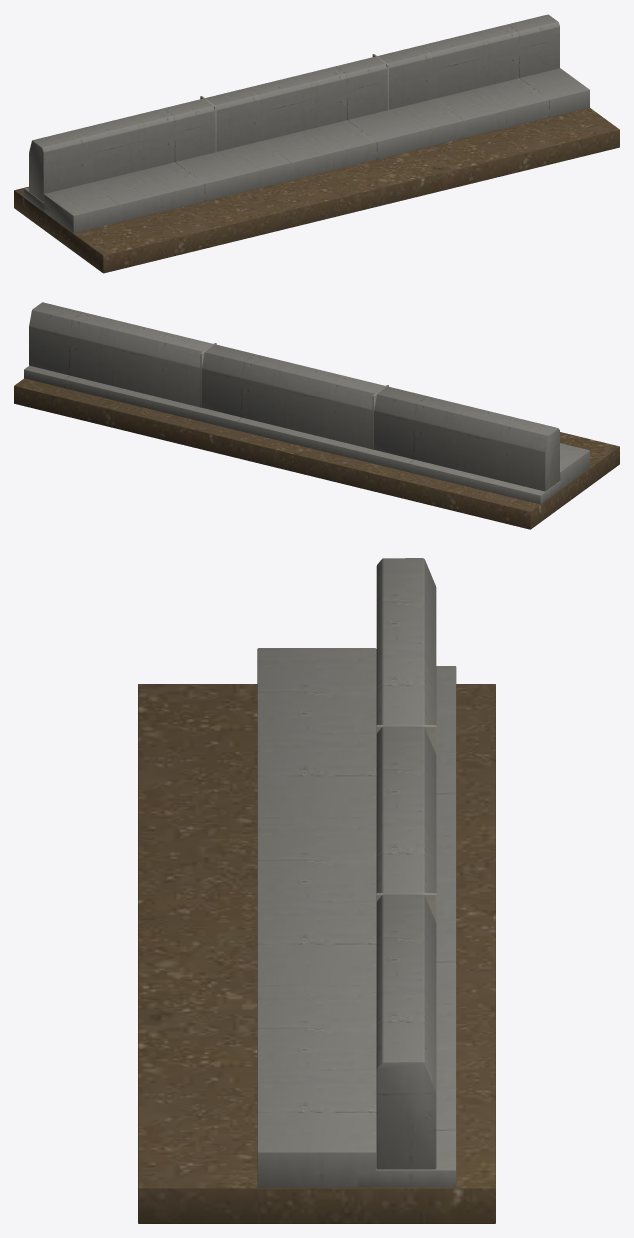
The model's file is KIT-PAV-04_lod1.glb.
The picture shows the model from 3 angles, top to bottom: view 1: azimuth 30°, elevation 25°; view 2: azimuth 150°, elevation 25°; view 3: azimuth 270°, elevation 25°; orthographic projection. The views are drawn at different scales.
Parts seen in each view (by area): view 1: KIT-PAV-04_base, KIT-PAV-04_sarjeta, KIT-PAV-04_mf0, KIT-PAV-04_mf1, KIT-PAV-04_mf2; view 2: KIT-PAV-04_base, KIT-PAV-04_mf0, KIT-PAV-04_mf2, KIT-PAV-04_mf1, KIT-PAV-04_berco, KIT-PAV-04_sarjeta; view 3: KIT-PAV-04_base, KIT-PAV-04_sarjeta, KIT-PAV-04_mf2, KIT-PAV-04_berco, KIT-PAV-04_mf0, KIT-PAV-04_mf1.
Part boxes in pixels (x1,y1,x2,y2): KIT-PAV-04_base: (14,107,619,273); KIT-PAV-04_sarjeta: (44,68,589,233); KIT-PAV-04_mf0: (29,98,215,202); KIT-PAV-04_mf1: (205,56,387,151); KIT-PAV-04_mf2: (377,14,559,109); KIT-PAV-04_base: (14,378,619,529); KIT-PAV-04_mf0: (374,386,559,491); KIT-PAV-04_mf2: (29,302,212,407); KIT-PAV-04_mf1: (201,344,385,449); KIT-PAV-04_berco: (24,365,565,504); KIT-PAV-04_sarjeta: (560,443,589,487); KIT-PAV-04_base: (138,684,495,1223); KIT-PAV-04_sarjeta: (257,648,376,1187); KIT-PAV-04_mf2: (376,894,436,1169); KIT-PAV-04_berco: (357,666,456,1187); KIT-PAV-04_mf0: (376,558,436,724); KIT-PAV-04_mf1: (376,726,436,892).
Bounding box in the file's own units: 3 × 0.45 × 0.9.
3 materials, 3 textured.
